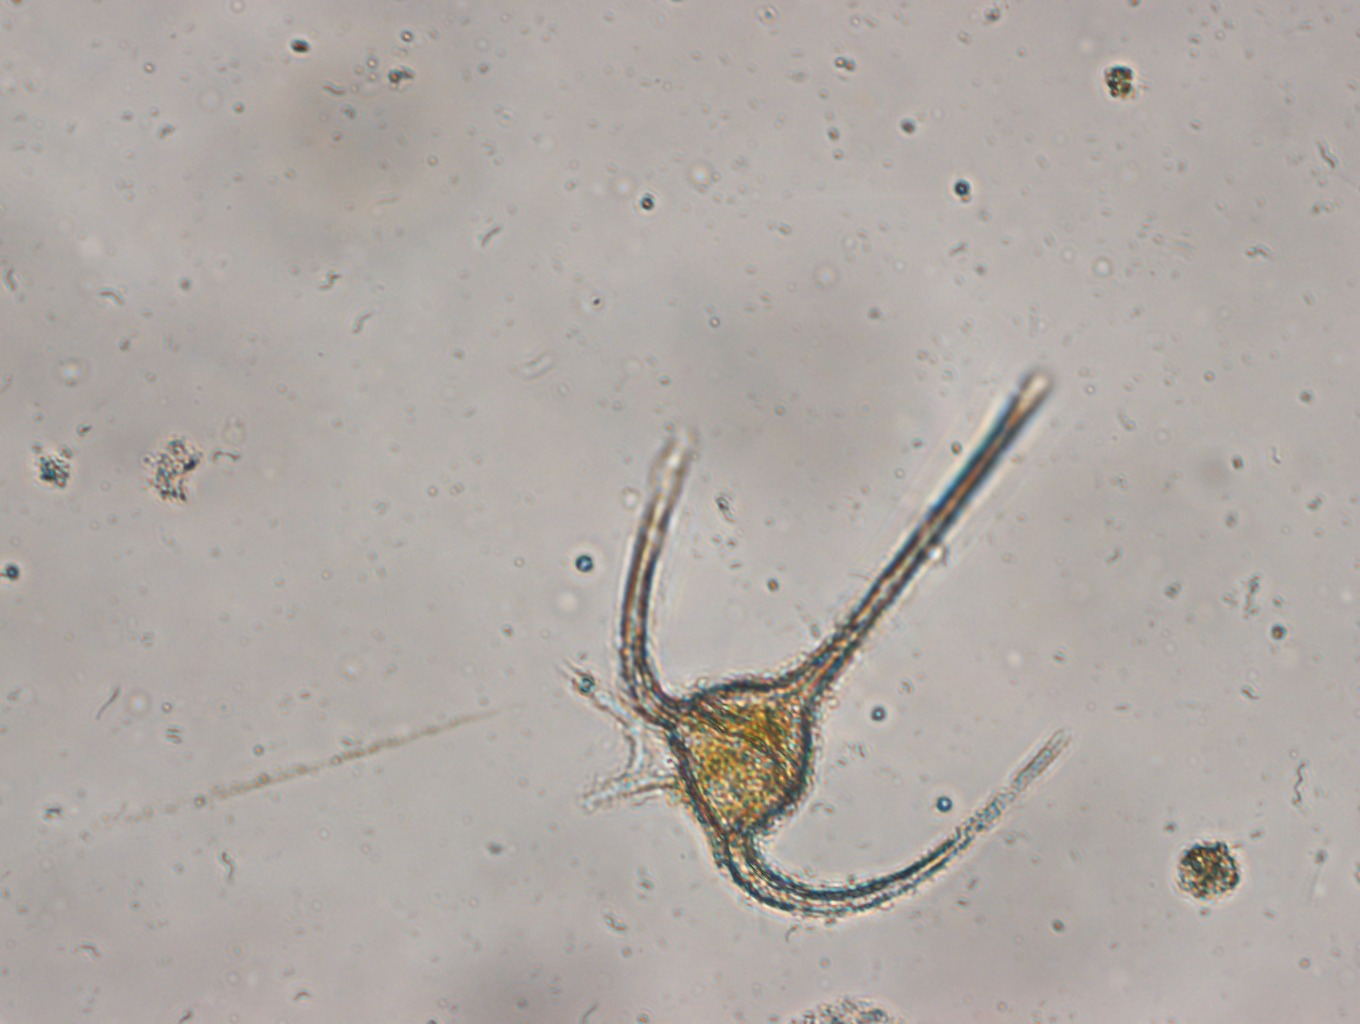ceratium trichoceros: (612, 357, 1074, 929)
